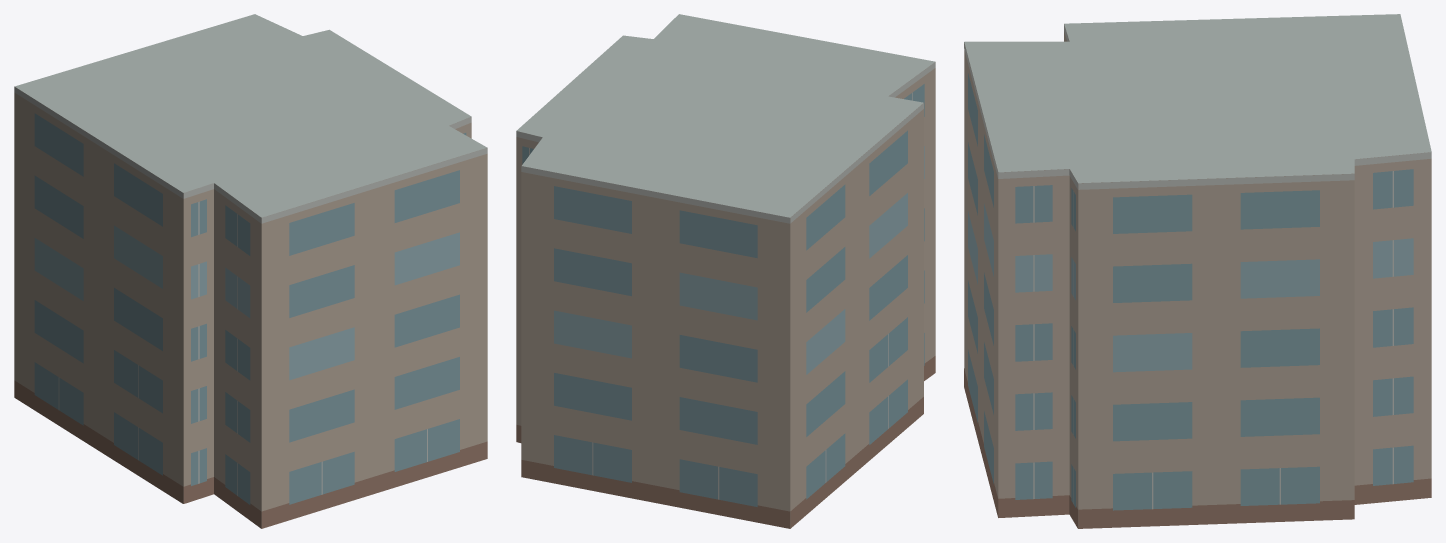
File: survey-upis-32610214.glb
3 views of the same model, side by side, from view 1: azimuth 30°, elevation 25°; view 2: azimuth 150°, elevation 25°; view 3: azimuth 270°, elevation 25° (orthographic). The views are drawn at different scales.
Visible parts, largest first — view 1: survey-upis-32610214.tmp; view 2: survey-upis-32610214.tmp; view 3: survey-upis-32610214.tmp.
Boxes of the visible parts, x1,y1,x2,y2 form: survey-upis-32610214.tmp: (14, 14, 487, 528); survey-upis-32610214.tmp: (516, 14, 935, 528); survey-upis-32610214.tmp: (964, 14, 1431, 528).
Bounding box in the file's own units: 13.35 × 12.7 × 15.58.
